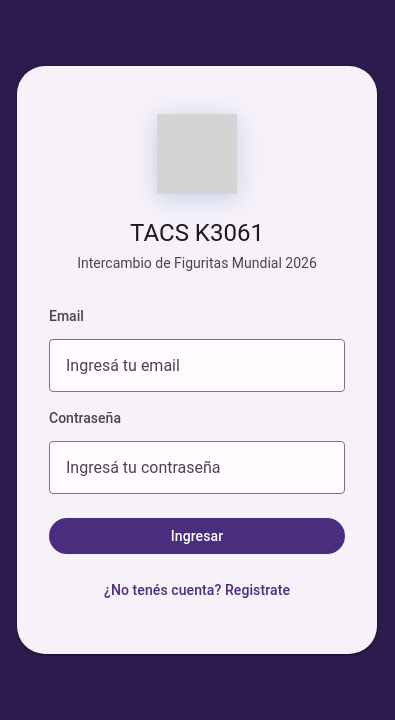
LoginPage — validación cliente › en register, contraseñas no coinciden muestra error
Click the button "¿No tenés cuenta? Registrate" at [197, 590], box [88,574,306,606]
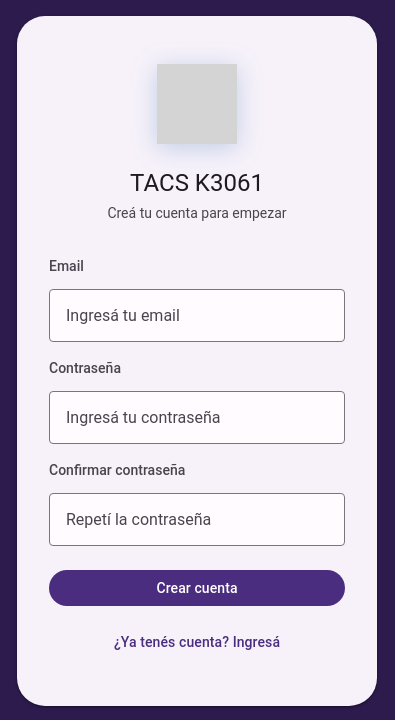
Type "a@b.com" into the field with placeholder "Ingresá tu email" at [197, 316], box [49,289,345,342]
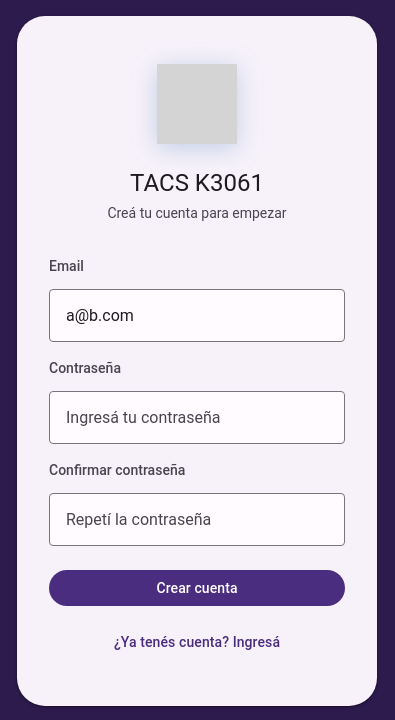
Type "secreto" into the password field with placeholder "Ingresá tu contraseña" at [197, 418], box [49,391,345,444]
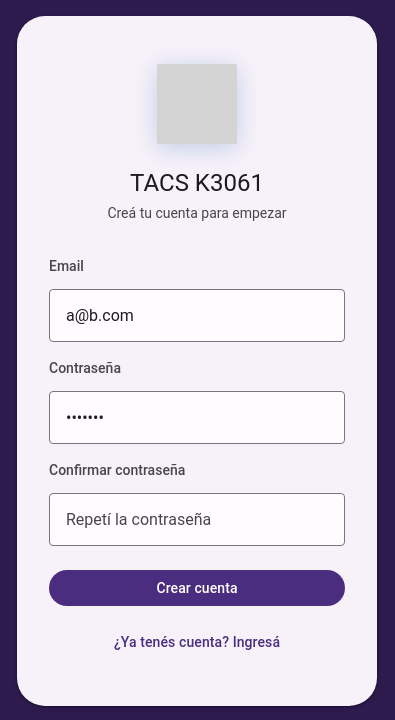
Type "distinto" into the password field with placeholder "Repetí la contraseña" at [197, 520], box [49,493,345,546]
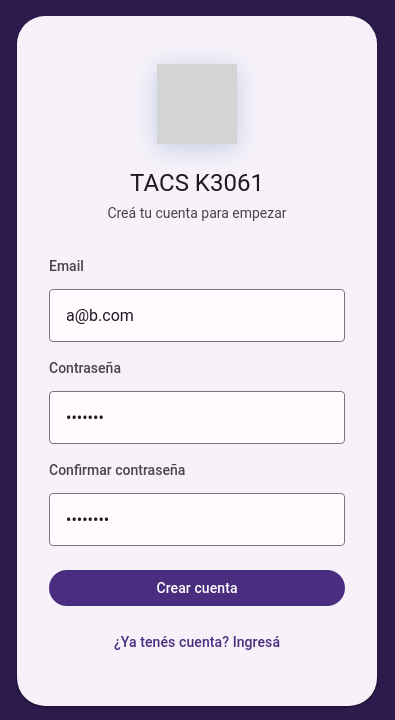
Click the button "Crear cuenta" at [197, 588], box [49,570,345,606]
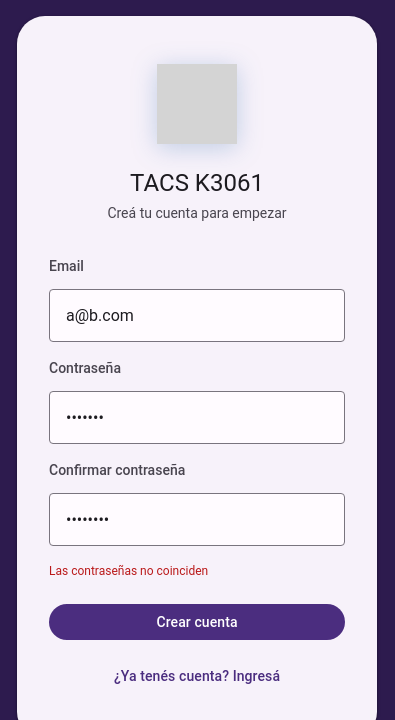
Expected: the text "Las contraseñas no coinciden" is shown, [49,564,208,578]
